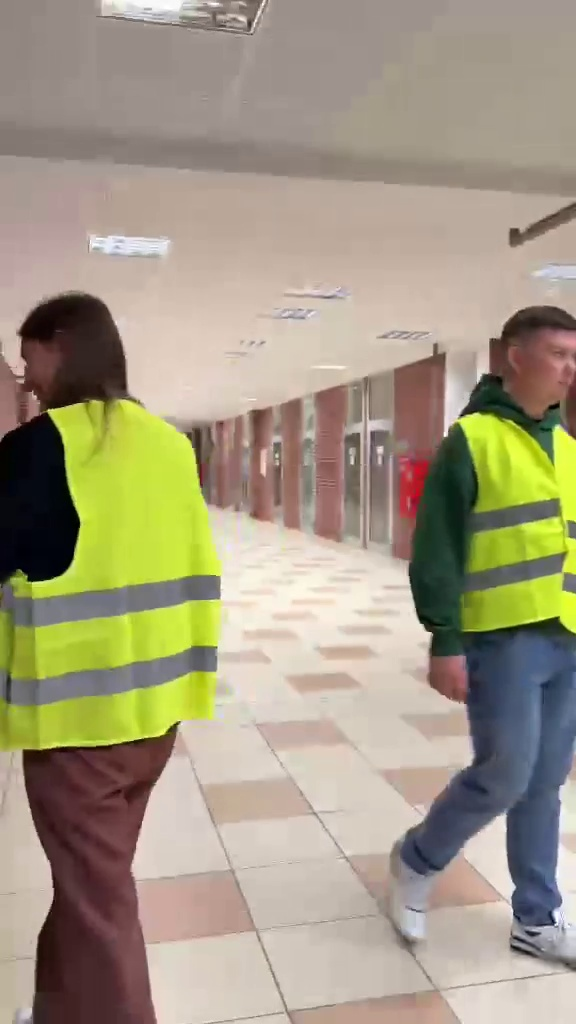vest: (0, 299, 237, 996), (405, 304, 576, 959)
